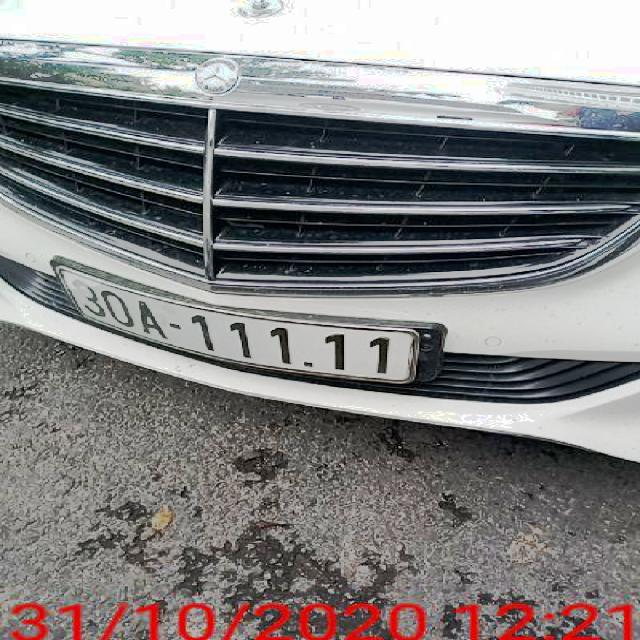license_plate: (56, 267, 415, 389)
